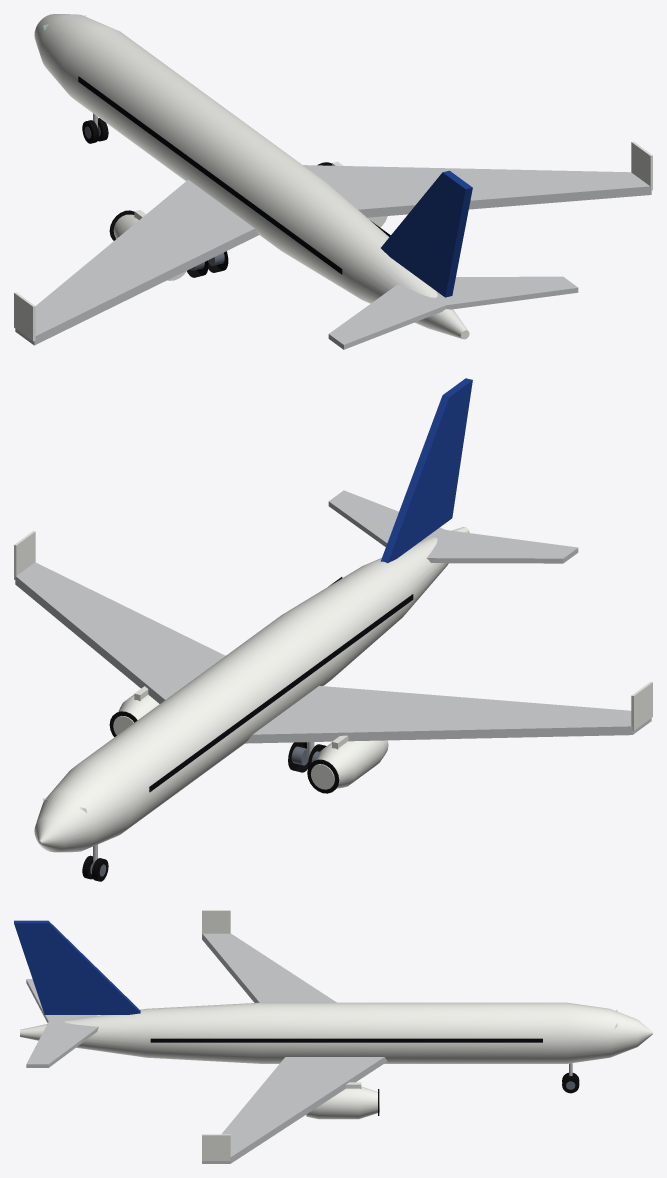
File: airport.aircraft.regional.glb
3 renders of one model, top to bottom at view 1: azimuth 30°, elevation 25°; view 2: azimuth 150°, elevation 25°; view 3: azimuth 270°, elevation 25°, orthographic. The views are drawn at different scales.
Visible parts, largest first — view 1: fuselage__paint_white, wings__aluminium, wings__plastic_blue, fuselage__screen, wings__paint_white, gear__rubber, engines__paint_white; view 2: fuselage__paint_white, wings__aluminium, wings__plastic_blue, engines__paint_white, fuselage__screen, wings__paint_white, gear__rubber; view 3: fuselage__paint_white, wings__aluminium, wings__plastic_blue, fuselage__screen, engines__paint_white, wings__paint_white.
Boxes of the visible parts, box(x1,y1,x2,y2) form: fuselage__paint_white: box(34, 14, 469, 339); wings__aluminium: box(15, 165, 651, 349); wings__plastic_blue: box(381, 170, 472, 297); fuselage__screen: box(78, 76, 390, 274); wings__paint_white: box(14, 141, 652, 341); gear__rubber: box(82, 118, 228, 277); engines__paint_white: box(113, 161, 387, 280); fuselage__paint_white: box(34, 527, 469, 852); wings__aluminium: box(15, 490, 651, 743); wings__plastic_blue: box(380, 378, 472, 563); engines__paint_white: box(113, 686, 388, 789); fuselage__screen: box(149, 577, 413, 792); wings__paint_white: box(14, 531, 652, 730); gear__rubber: box(82, 742, 326, 881); fuselage__paint_white: box(20, 1002, 652, 1063); wings__aluminium: box(26, 933, 387, 1163); wings__plastic_blue: box(14, 920, 140, 1014); fuselage__screen: box(150, 1038, 542, 1042); engines__paint_white: box(306, 1082, 379, 1119); wings__paint_white: box(202, 910, 230, 1160).
Bounding box in the file's own units: 26.1 × 9.11 × 31.3.
